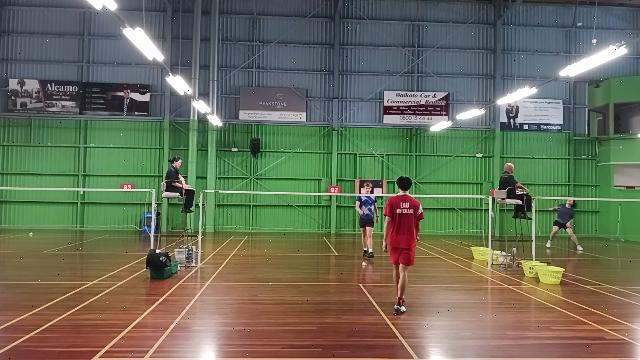Shuttlecock: (358, 260, 368, 266)
